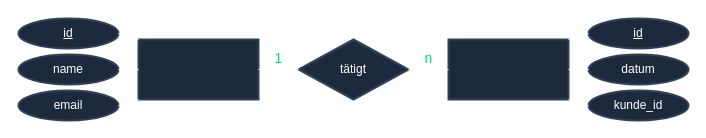
Some shapes in this 706 by 138 pixel diagram are drawn without their labels. Each missing label, with the centre of its shape:
bestellung: point (508, 69)
kunde: point (198, 69)
